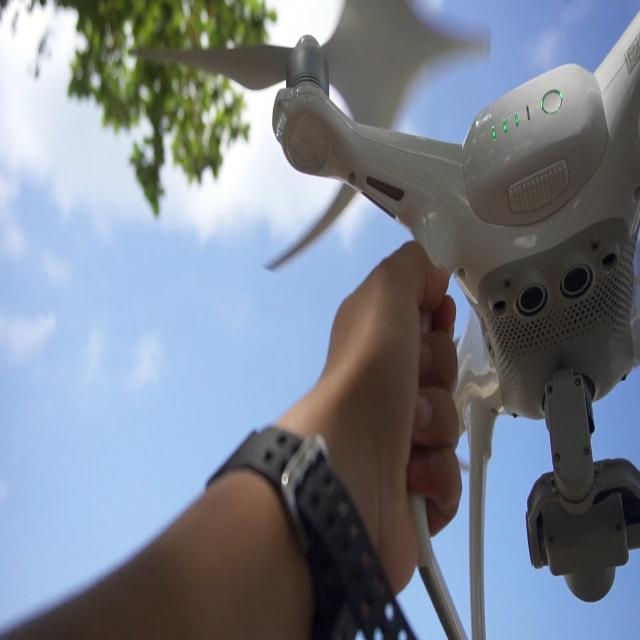Drone: (260, 3, 640, 640)
